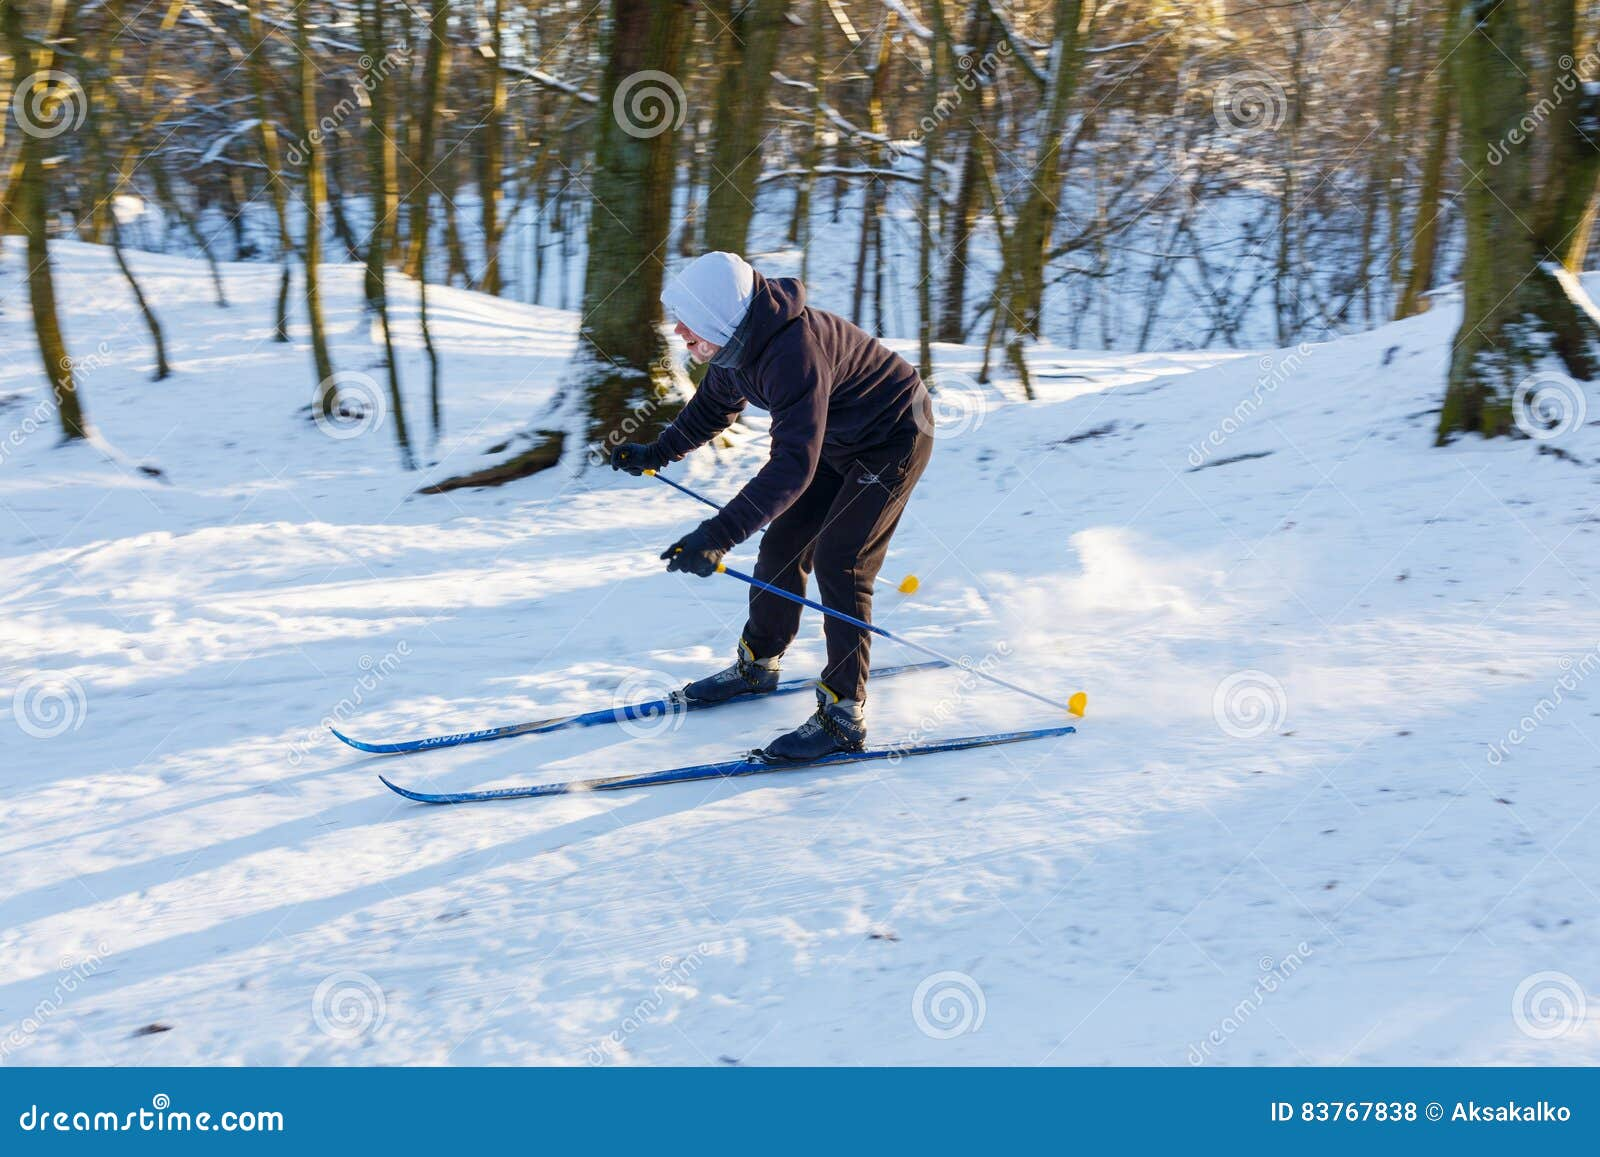skier: (317, 196, 1112, 836)
